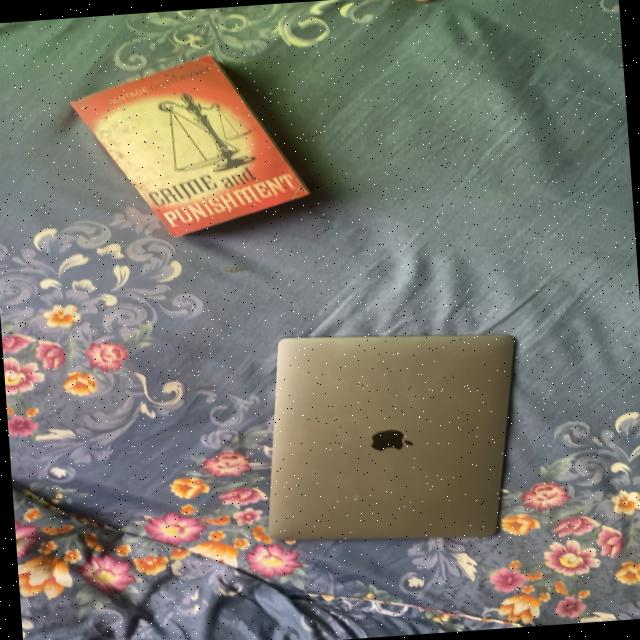book: (38, 38, 332, 252)
laptop: (230, 310, 534, 562)
